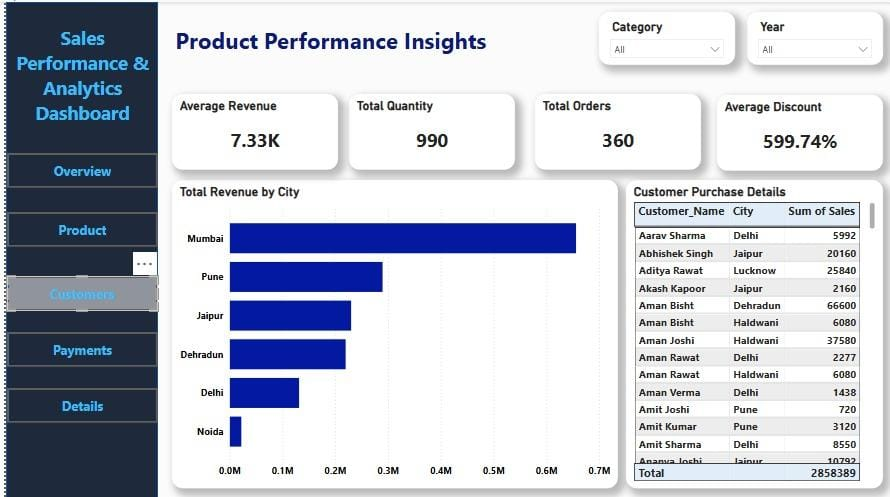

What the dashboard file says about the page in this screenshot:
{"tool":"powerbi","page":{"name":"Customers","canvas":[1280,720],"ordinal":2},"visuals":[{"type":"shape","box":[0,0,218.9,720],"z":0},{"type":"actionButton","box":[1.4,217.4,217.4,50.4],"z":1000},{"type":"actionButton","box":[1.4,302.4,217.4,50.4],"z":2000},{"type":"actionButton","box":[1.4,394.6,217.4,50.4],"z":3000},{"type":"actionButton","box":[1.4,475.2,217.4,50.4],"z":4000},{"type":"actionButton","box":[1.4,555.8,217.4,50.4],"z":5000},{"type":"textbox","box":[1.4,27.4,217.4,159.8],"z":6000},{"type":"textbox","box":[239,27.4,493.9,63.4],"z":7000},{"type":"slicer","fields":{"Values":["Sales_Data_Analysis_2025.Year"]},"box":[1067,14.4,195.8,76.3],"z":8000},{"type":"slicer","fields":{"Values":["Sales_Data_Analysis_2025.Category"]},"box":[853.9,14.4,195.8,76.3],"z":9000},{"type":"cardVisual","title":"Total Quantity","fields":{"Data":["Sum(Sales_Data_Analysis_2025.Quantity)"]},"box":[493.9,132.5,239,109.4],"z":11000},{"type":"cardVisual","title":"Total Orders","fields":{"Data":["Count(Sales_Data_Analysis_2025.Order_ID)"]},"box":[761.8,132.5,239,109.4],"z":12000},{"type":"cardVisual","title":"Average Discount","fields":{"Data":["Avg(Sales_Data_Analysis_2025.Discount)"]},"box":[1023.8,133.9,239,109.4],"z":13000},{"type":"clusteredBarChart","title":"Total Revenue by City","fields":{"Category":["Sales_Data_Analysis_2025.City"],"Y":["Sum(Sales_Data_Analysis_2025.Sales)"]},"box":[239,256.3,642.2,443.5],"z":14000},{"type":"tableEx","title":"Customer Purchase Details","fields":{"Values":["Sales_Data_Analysis_2025.Customer_Name","Sales_Data_Analysis_2025.City","Sum(Sales_Data_Analysis_2025.Sales)"]},"box":[892.8,256.3,370.1,443.5],"z":15000},{"type":"cardVisual","title":"Average Revenue ","fields":{"Data":["Avg(Sales_Data_Analysis_2025.Sales)"]},"box":[239,132.5,239,109.4],"z":15001}]}

Visuals, with their boxes in screenshot pixels (x1, y1, x2, y2), scaled from the page's 1280x720 canvas onto the 890x497 screenshot:
shape: bbox(0, 0, 152, 496)
actionButton: bbox(1, 150, 152, 185)
actionButton: bbox(1, 209, 152, 244)
actionButton: bbox(1, 272, 152, 307)
actionButton: bbox(1, 328, 152, 363)
actionButton: bbox(1, 384, 152, 418)
textbox: bbox(1, 19, 152, 129)
textbox: bbox(166, 19, 510, 63)
slicer - Sales_Data_Analysis_2025.Year: bbox(742, 10, 878, 63)
slicer - Sales_Data_Analysis_2025.Category: bbox(594, 10, 730, 63)
"Total Quantity" cardVisual: bbox(343, 91, 510, 167)
"Total Orders" cardVisual: bbox(530, 91, 696, 167)
"Average Discount" cardVisual: bbox(712, 92, 878, 168)
"Total Revenue by City" clusteredBarChart: bbox(166, 177, 613, 483)
"Customer Purchase Details" tableEx: bbox(621, 177, 878, 483)
"Average Revenue " cardVisual: bbox(166, 91, 332, 167)
